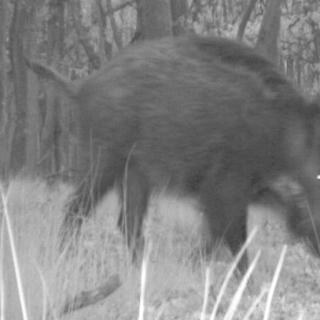Pig: (19, 0, 320, 276)
